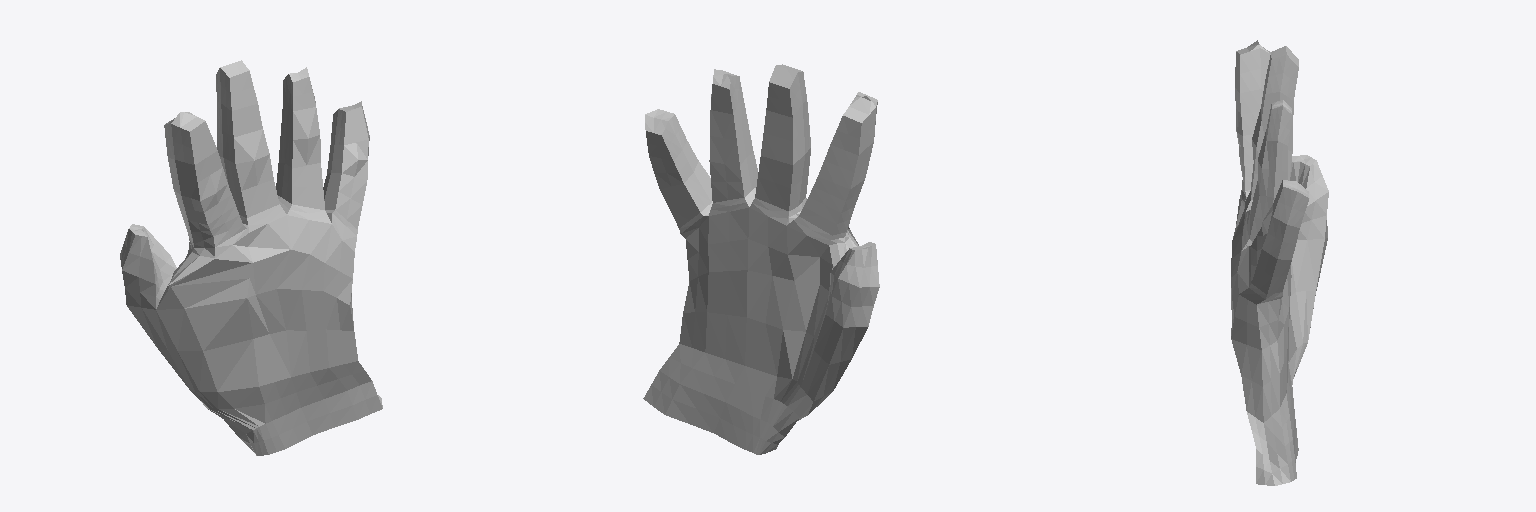
Rendered from hand_sub2_triang0002.obj.
The picture shows the model from 3 angles: view 1: azimuth 30°, elevation 25°; view 2: azimuth 150°, elevation 25°; view 3: azimuth 270°, elevation 25°; orthographic projection.
Parts seen in each view (by area): view 1: Hand; view 2: Hand; view 3: Hand.
Boxes of the visible parts, x1,y1,x2,y2 form: Hand: [120, 60, 382, 455]; Hand: [643, 64, 879, 454]; Hand: [1231, 40, 1328, 485].
Bounding box in the file's own units: 3.26 × 4.97 × 1.13.